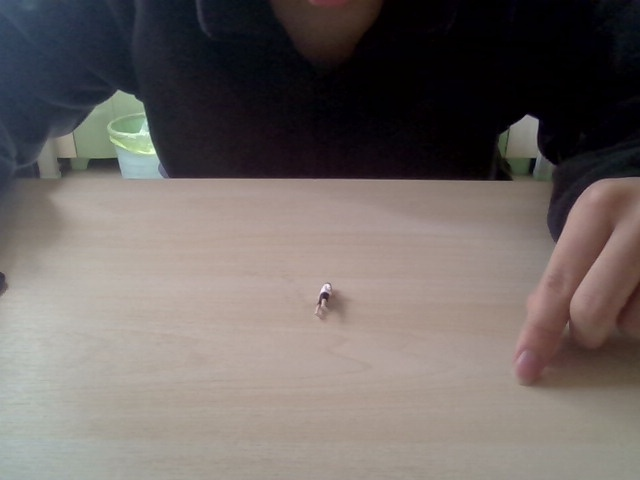fall: (309, 279, 337, 325)
